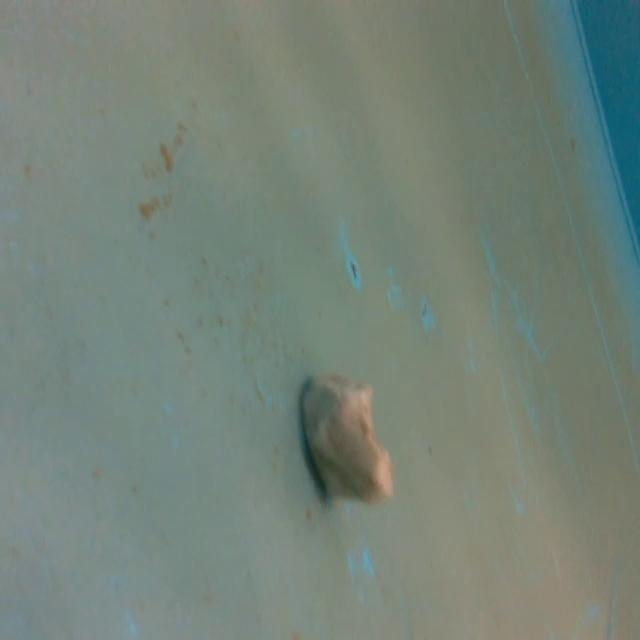rock: (298, 371, 396, 509)
